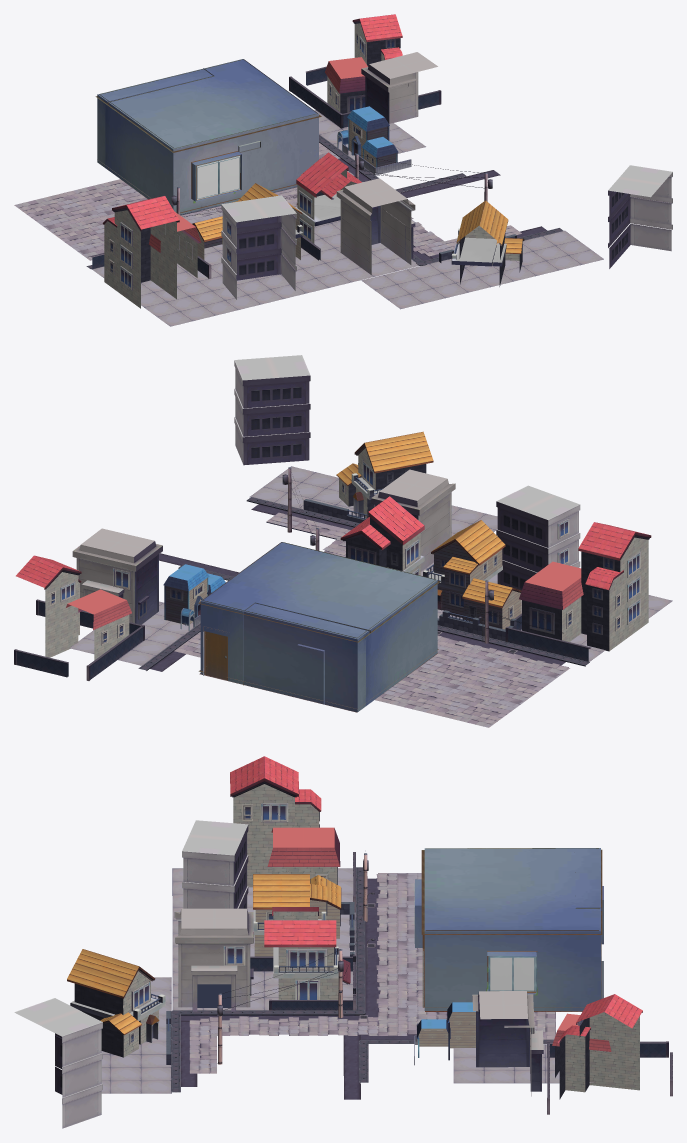
File: room.glb
3 views of the same model, one above another, from view 1: azimuth 30°, elevation 25°; view 2: azimuth 150°, elevation 25°; view 3: azimuth 270°, elevation 25° (orthographic). The views are drawn at different scales.
Visible parts, largest first — view 1: Object_27, Object_10, Object_11, Object_25, Object_33; view 2: Object_27, Object_10, Object_25, Object_33; view 3: Object_27, Object_10, Object_19, Object_25, Object_33.
Part boxes in pixels (x1,y1,x2,y2): Object_27: [14, 14, 672, 326]; Object_10: [97, 59, 318, 215]; Object_11: [196, 156, 239, 199]; Object_25: [95, 59, 321, 213]; Object_33: [191, 151, 240, 200]; Object_27: [14, 355, 672, 727]; Object_10: [200, 542, 437, 712]; Object_25: [198, 542, 440, 709]; Object_33: [203, 626, 227, 680]; Object_27: [14, 756, 672, 1128]; Object_10: [415, 848, 603, 1010]; Object_19: [490, 957, 535, 990]; Object_25: [421, 848, 602, 1007]; Object_33: [414, 883, 601, 998].
Size of what is drawn, in the model's own units: 18.23 by 3.66 by 19.34.
Materials: 27 (27 with a texture image).
